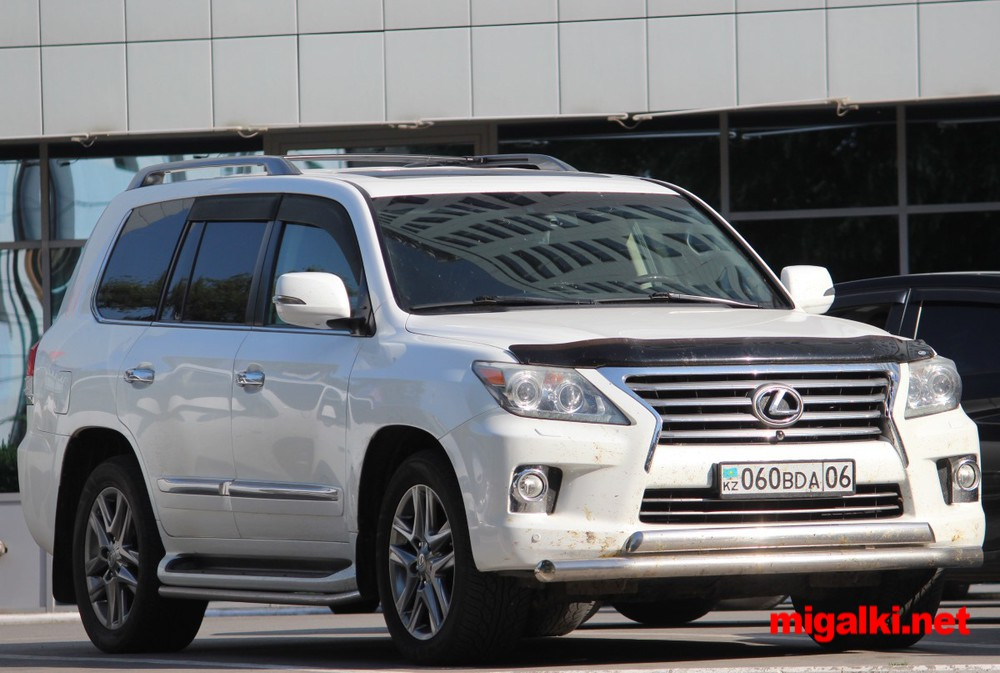license_plate: (719, 462, 859, 495)
